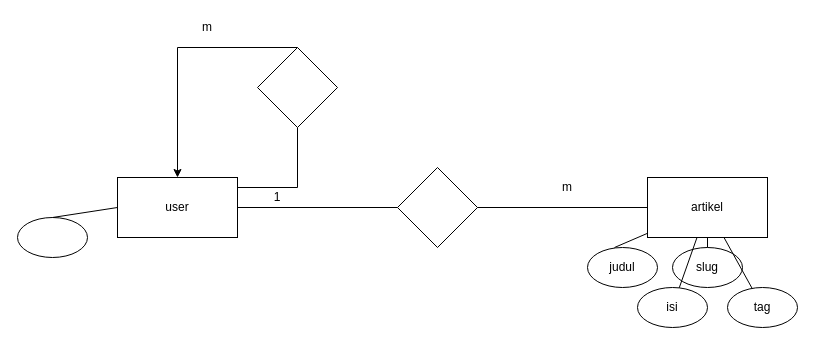
Some shapes in this 815 by 345 pixel diagram are drawn without their labels. Each missing label, with the centre of its shape:
follow: point 297,87
membuat: point 437,207
nama: point 52,237
